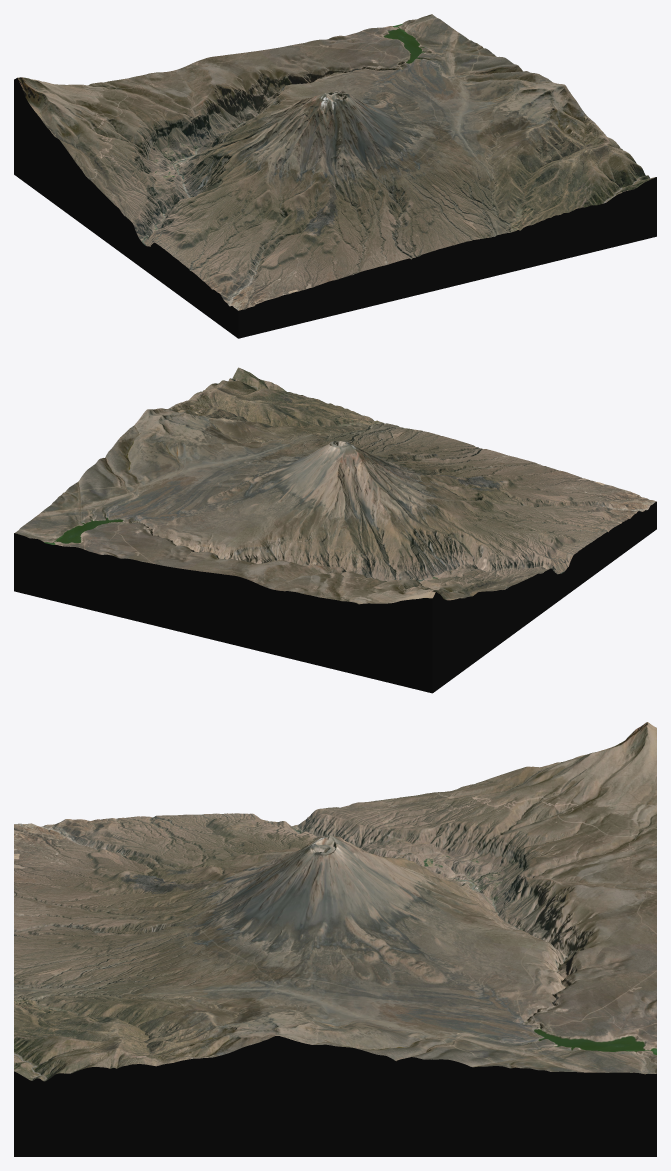
The model's file is volcan_misti.glb.
3 views of the same model, one above another, from view 1: azimuth 30°, elevation 25°; view 2: azimuth 150°, elevation 25°; view 3: azimuth 270°, elevation 25° (orthographic). The views are drawn at different scales.
Parts seen in each view (by area): view 1: ALPSMLC30_S017W072_DSM_6, side_0, side_2; view 2: ALPSMLC30_S017W072_DSM_6, side_1, side_2; view 3: ALPSMLC30_S017W072_DSM_6, side_3.
Part boxes in pixels (left/top/right/bottom): ALPSMLC30_S017W072_DSM_6: left=17, top=14, right=655, bottom=310; side_0: left=238, top=177, right=656, bottom=338; side_2: left=14, top=78, right=238, bottom=338; ALPSMLC30_S017W072_DSM_6: left=14, top=367, right=656, bottom=604; side_1: left=14, top=533, right=432, bottom=693; side_2: left=432, top=501, right=656, bottom=692; ALPSMLC30_S017W072_DSM_6: left=14, top=722, right=656, bottom=1081; side_3: left=14, top=1036, right=656, bottom=1156.
Bounding box in the file's own units: 100 × 26.57 × 92.82.
2 materials, 1 textured.
